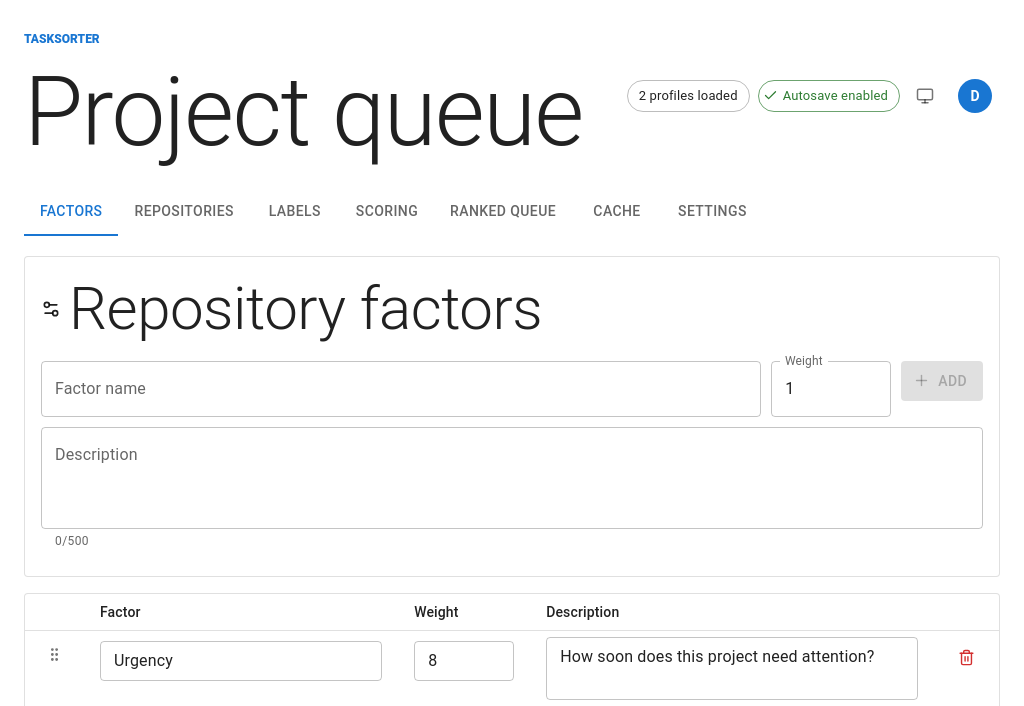
Scenario: App › sets a repository tier as the default from the Scoring tab
Expected: the text "Autosave enabled" is shown, [783,88,888,103]
Step 1. Click the tab "Scoring" → (387, 212), box [340,188,434,236]
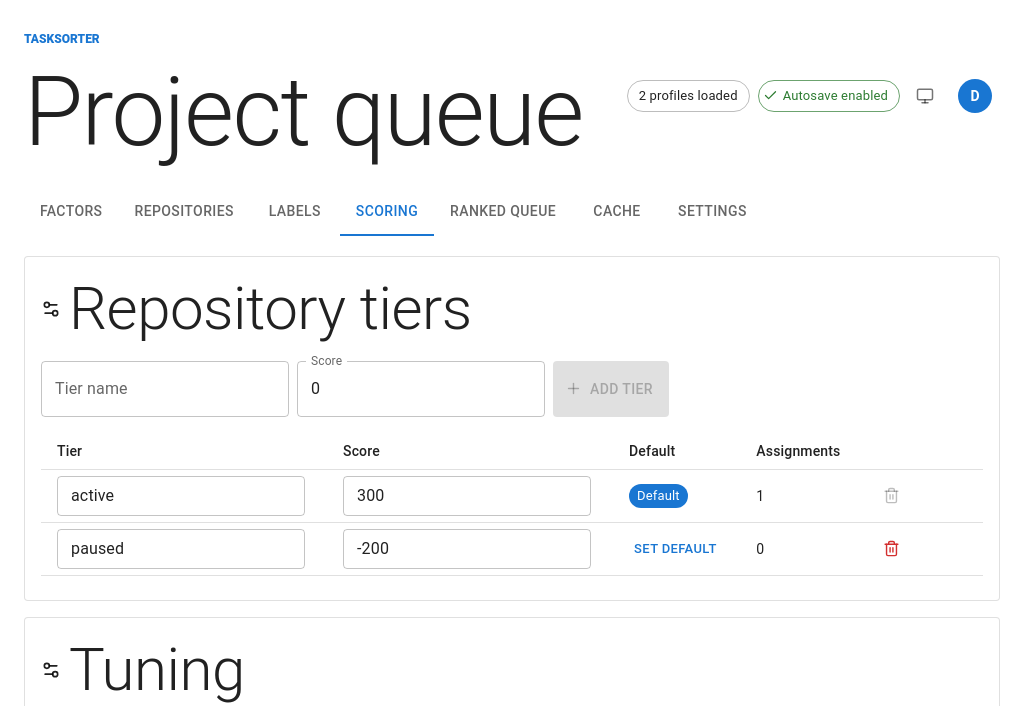
Step 2. Click the button "Set default" → (675, 549), box [629,534,722,564]
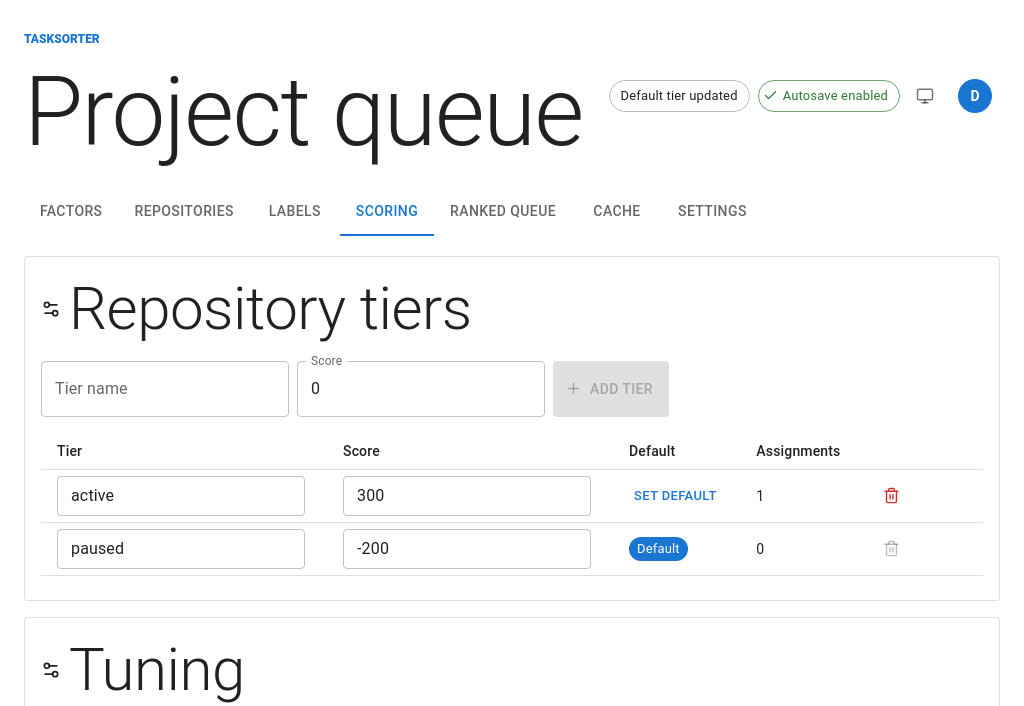
Now the text "Default tier updated" is shown, box [620,88,738,103]
